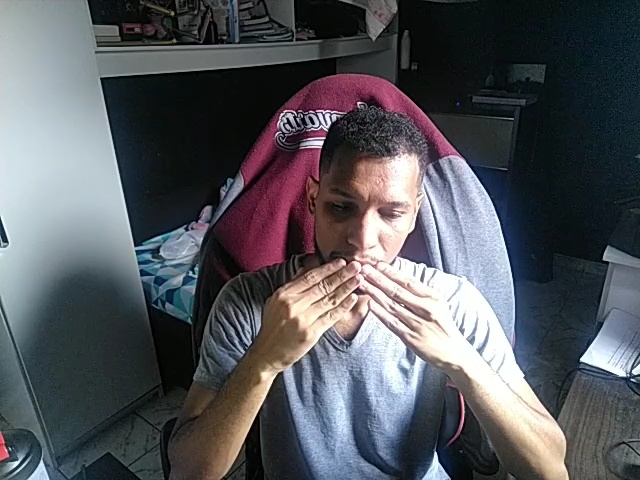obrigado: (260, 255, 455, 372)
